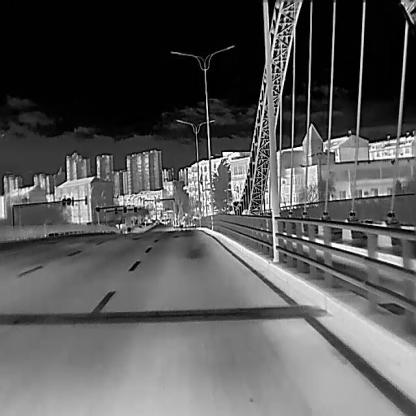car: (125, 226, 130, 233), (140, 221, 145, 227)
